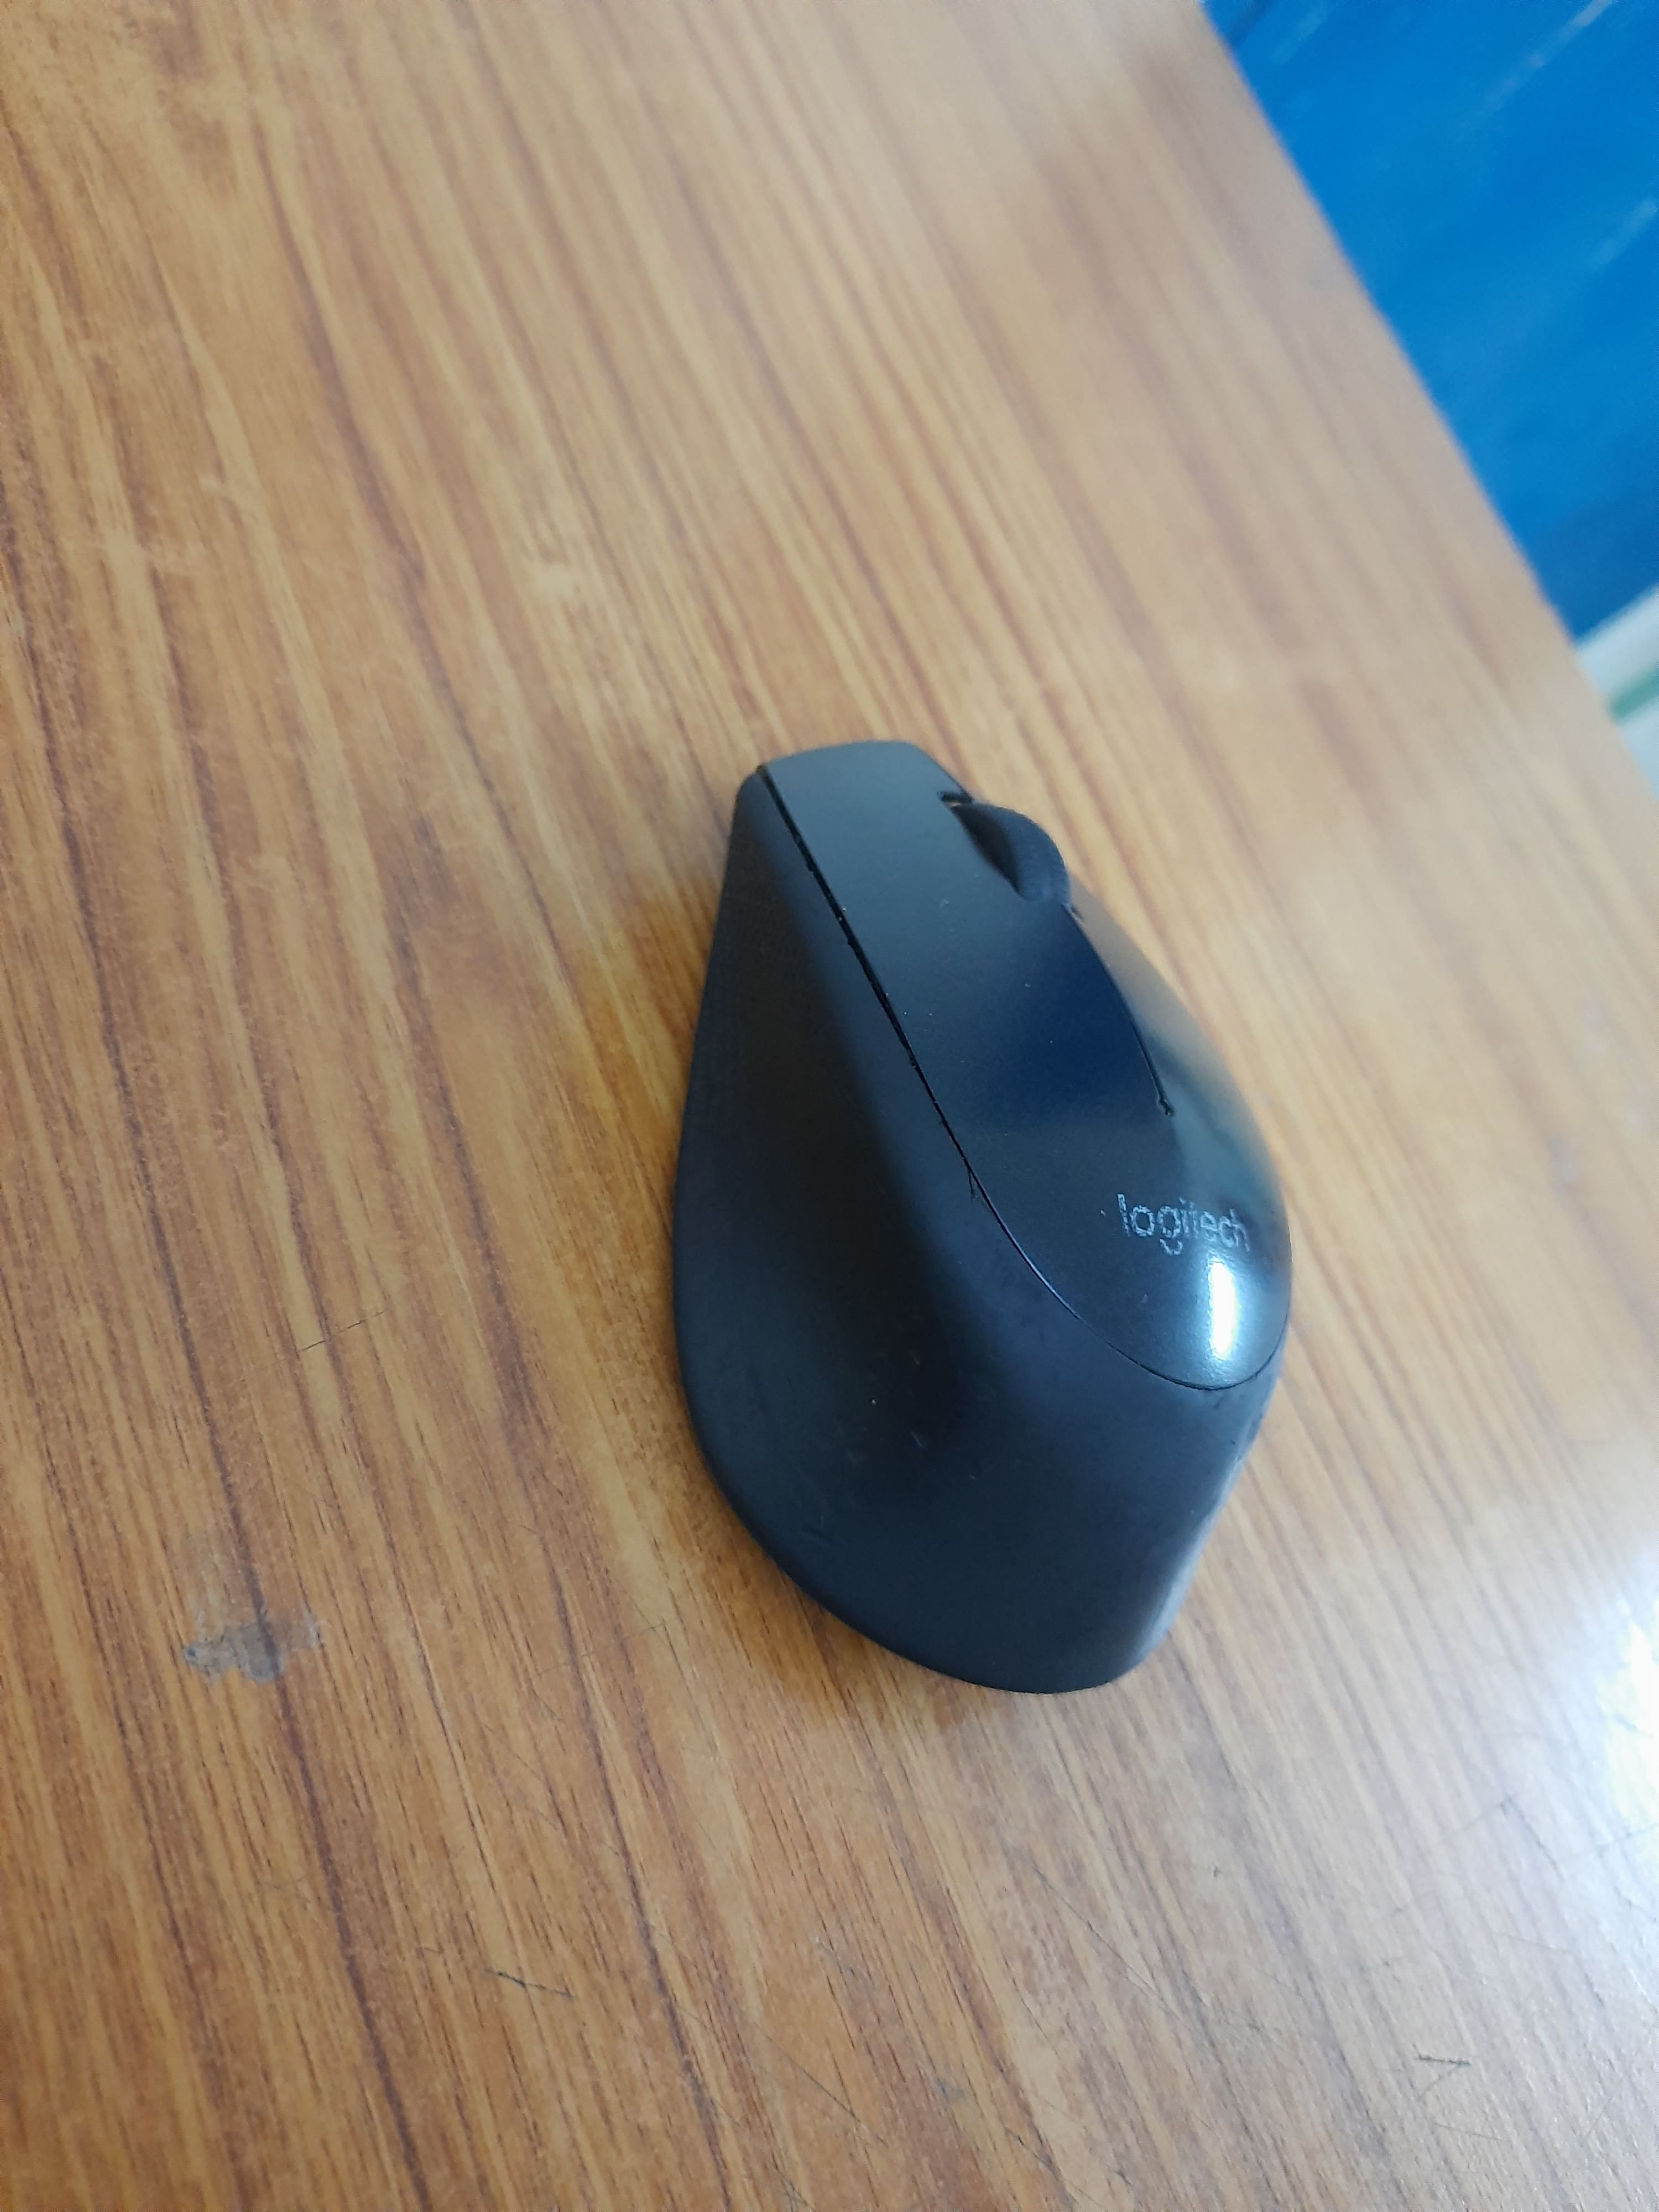Vikash's Mouse: (667, 733, 1309, 1709)
